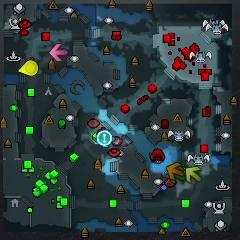Other: (97, 130, 113, 147)
p4: (19, 60, 39, 76)
x1: (49, 44, 68, 61)
x2: (185, 167, 201, 183)
x4: (169, 170, 186, 183)
x5: (166, 162, 183, 179)
